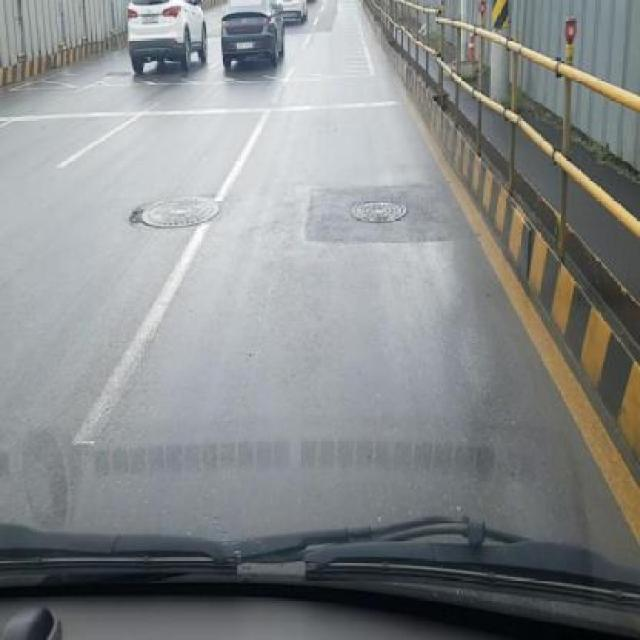Manhole: (129, 194, 222, 230), (352, 198, 410, 228)
